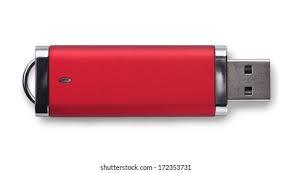USB Flash Drive: (22, 45, 271, 118)
